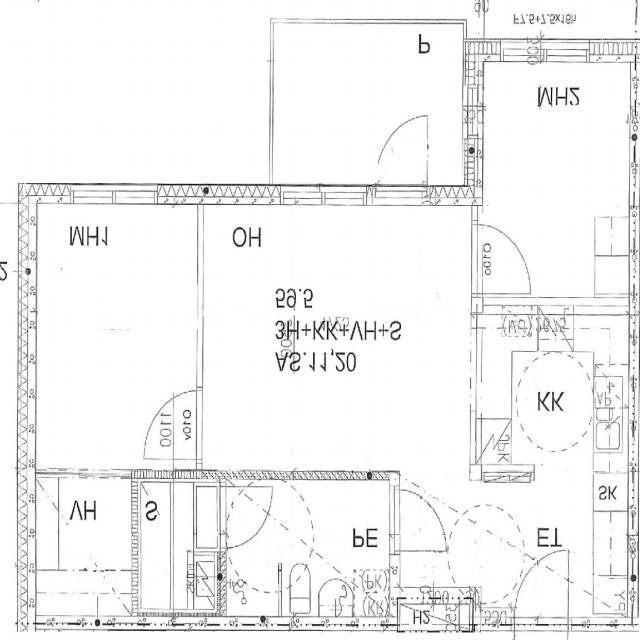door: (375, 116, 428, 205), (515, 545, 569, 631), (471, 224, 530, 293), (146, 391, 203, 458), (390, 489, 448, 552), (221, 487, 273, 548)
